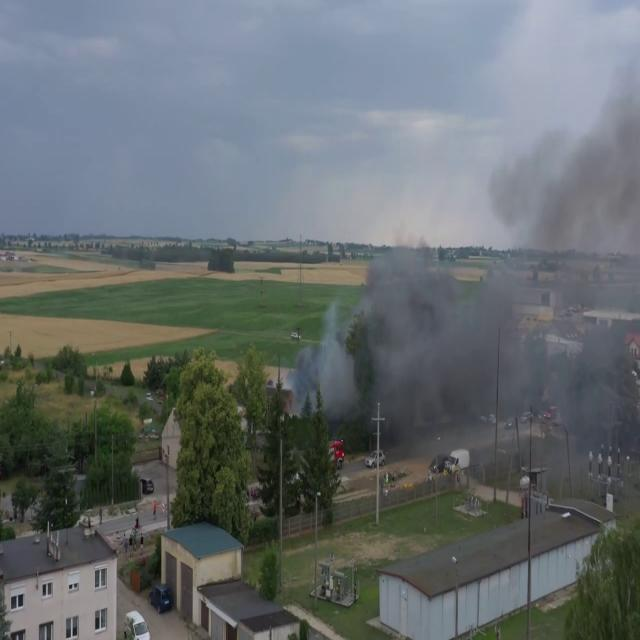Smoke: (302, 76, 640, 467)
